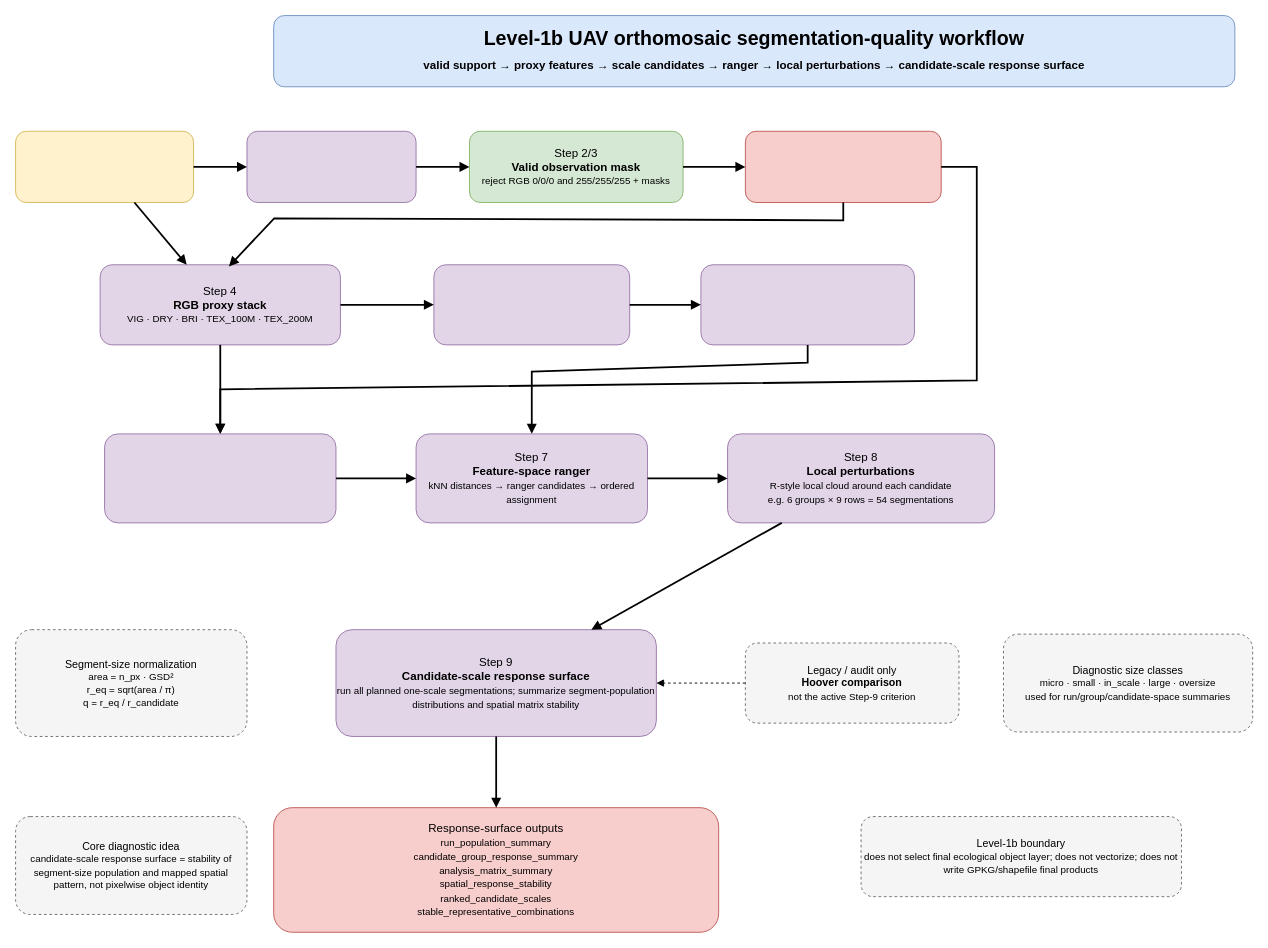
The diagram is 1268 pixels wide and 948 high, and some of its shapes have lost their labels. Here are the shapes that lost their labels. From the top down, the centre of each, then its label:
At [104,166]: "Input orthomosaic RGB UAV replicate orthomosaic".
At [331,166]: "Step 1 Preflight input contract, OTB, layout".
At [842,166]: "Common valid support all later rasters are mask-gated".
At [531,304]: "Step 5a Mask-aware scaling z-score / scaled feature stack".
At [807,304]: "Step 5b PCA feature space compact segmentation/ranger feature space".
At [220,478]: "Step 6 Scale distribution current repository implementation stays authoritative".
